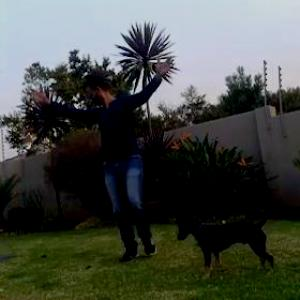takeoff: (26, 51, 185, 252)
